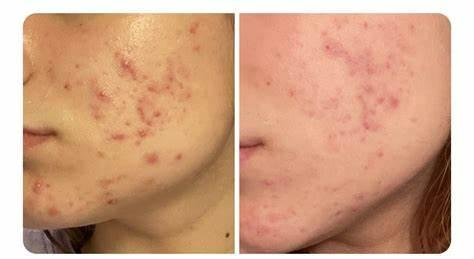Acne: (131, 99, 176, 151), (153, 56, 201, 100), (113, 116, 148, 162), (106, 43, 153, 74), (90, 82, 120, 112)
